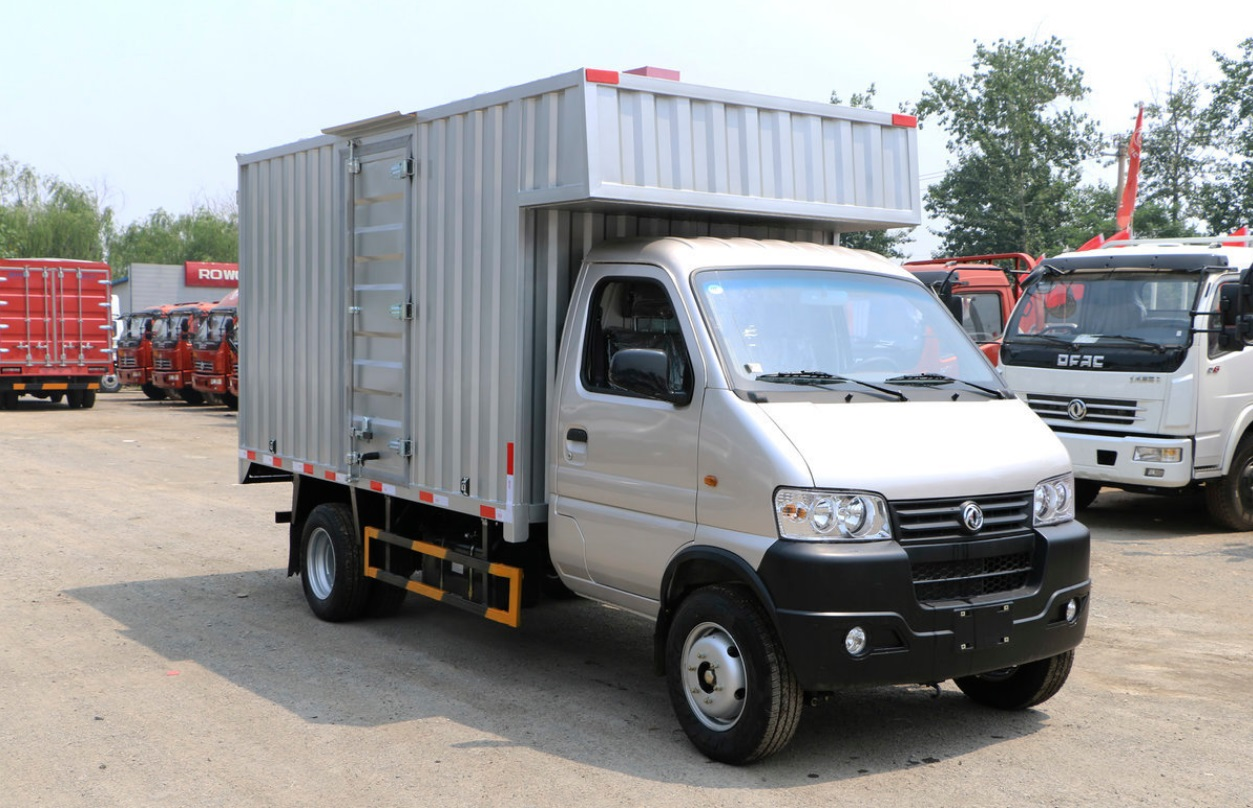truck: (233, 64, 1099, 776)
